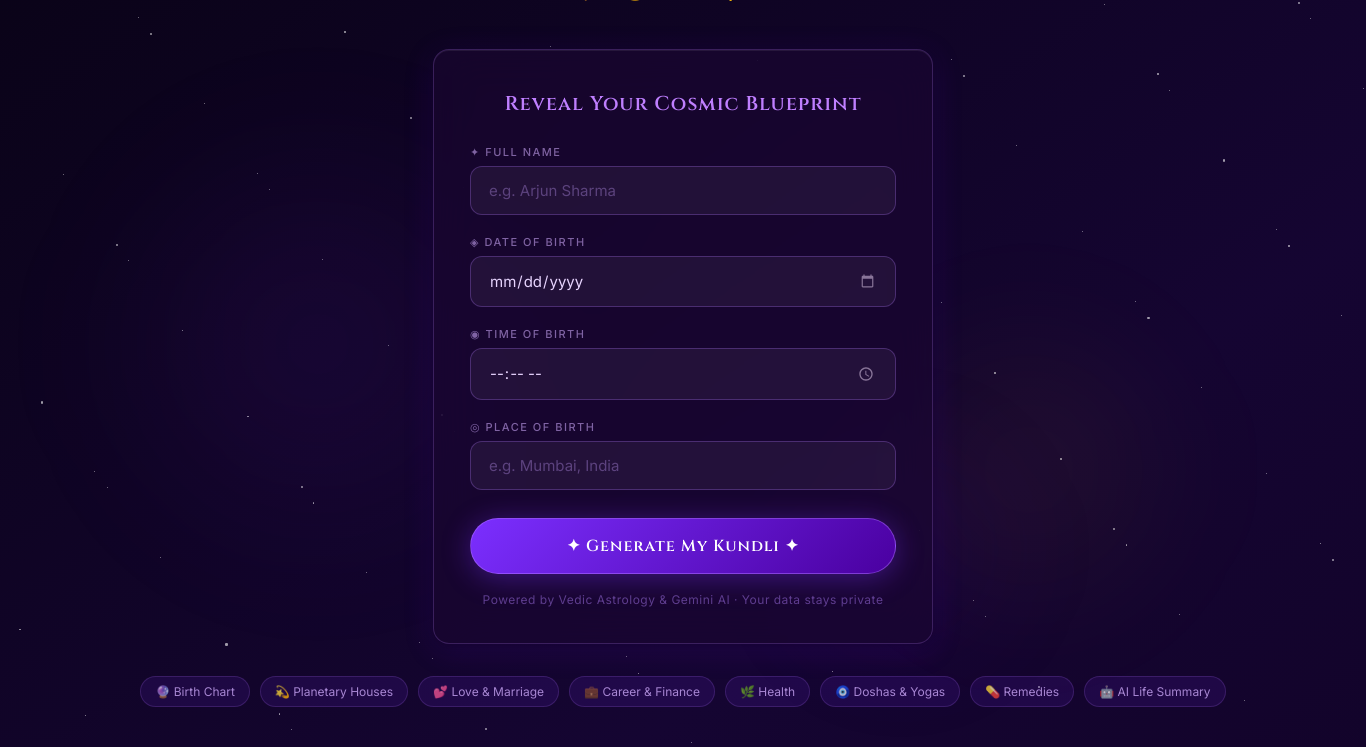
LandingPage › marks invalid fields with aria-invalid and links the error via aria-describedby
(page scrolled)
Click the button "✦ Generate My Kundli ✦" at (683,546), box [470,518,896,574]
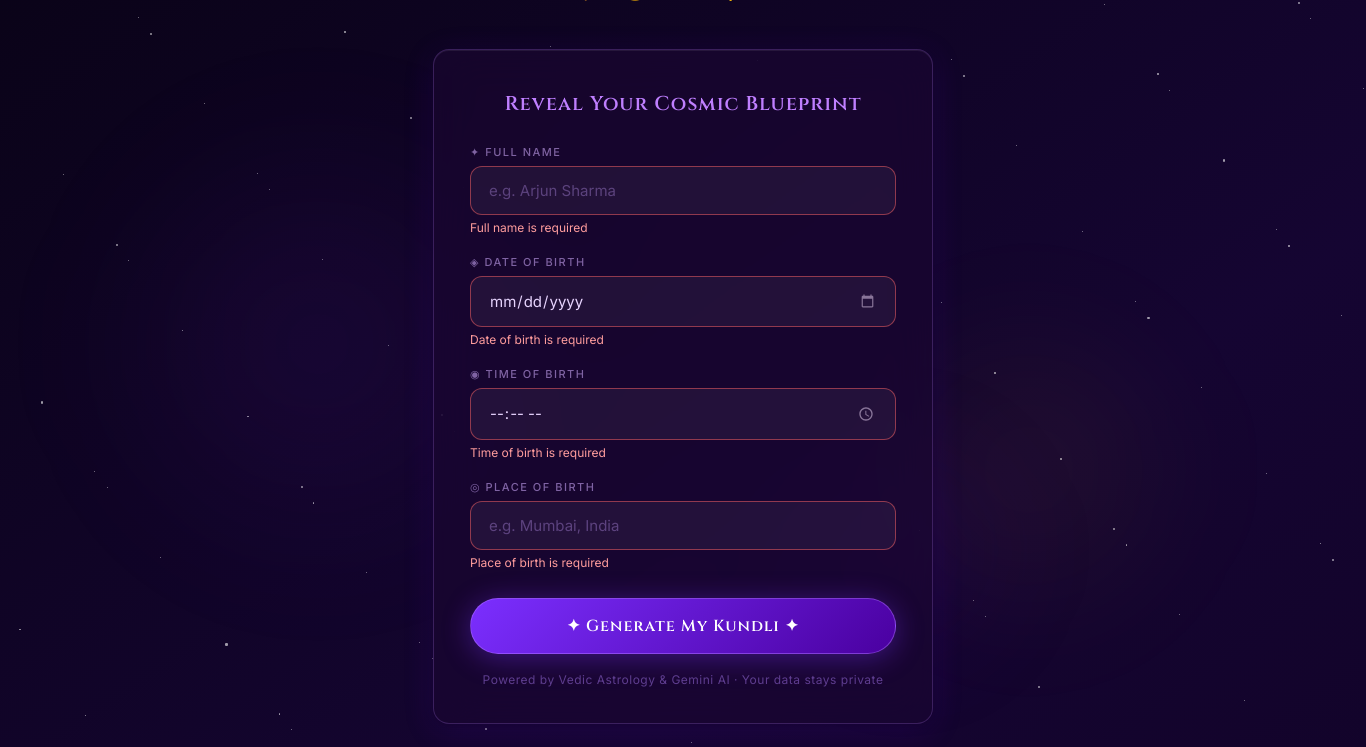
expect the message "Full name is required" is shown: met, box [470,220,588,235]
